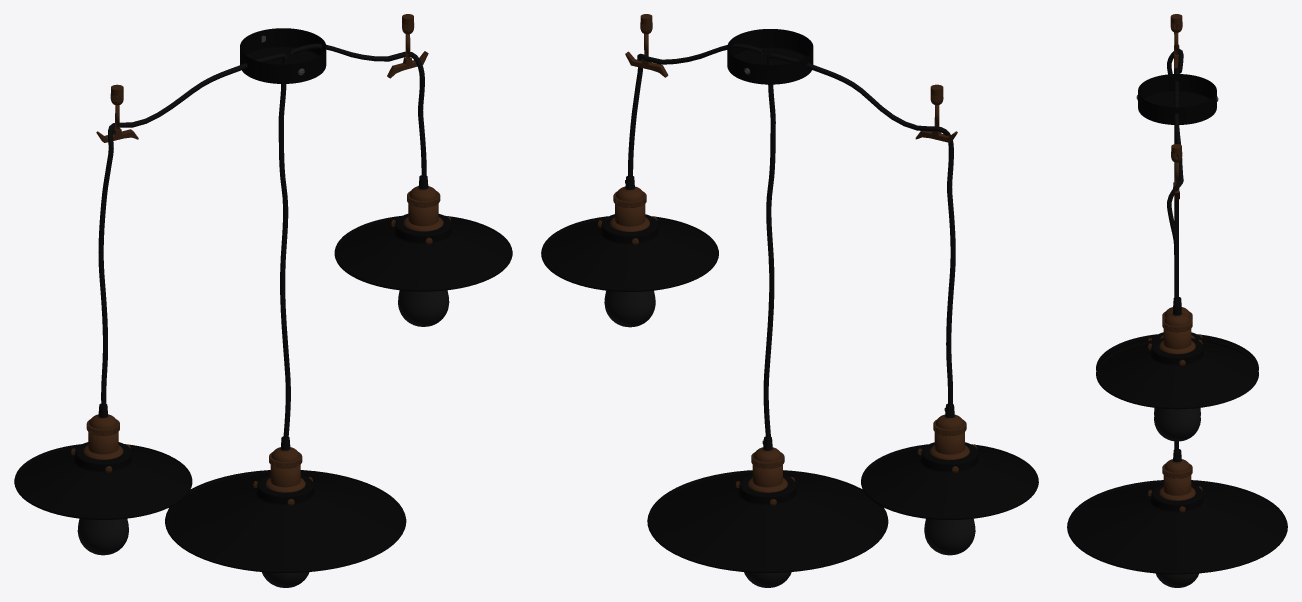
The model's file is LSP_9601_3L.fbx.
3 views of the same model, side by side, from view 1: azimuth 30°, elevation 25°; view 2: azimuth 150°, elevation 25°; view 3: azimuth 270°, elevation 25° (orthographic). The views are drawn at different scales.
Visible parts, largest first — view 1: LSP_9601_3L; view 2: LSP_9601_3L; view 3: LSP_9601_3L.
Part boxes in pixels (bbox=[...]): LSP_9601_3L: bbox=[14, 14, 512, 587]; LSP_9601_3L: bbox=[541, 14, 1038, 587]; LSP_9601_3L: bbox=[1067, 14, 1287, 587].
Bounding box in the file's own units: 67.47 × 73.43 × 29.72.
